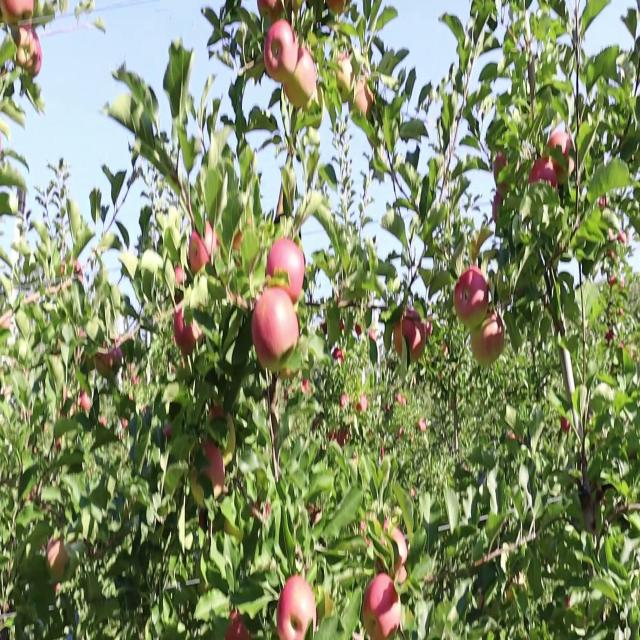apple: (252, 291, 300, 368), (276, 575, 320, 639), (268, 234, 307, 304), (368, 575, 403, 639), (284, 49, 318, 114), (456, 270, 492, 331), (264, 21, 297, 85), (188, 220, 222, 277), (476, 312, 506, 366), (396, 312, 426, 364), (380, 519, 408, 574), (200, 440, 227, 496), (16, 28, 44, 78), (188, 227, 216, 277), (368, 575, 399, 619), (492, 149, 511, 220), (548, 135, 575, 183), (528, 156, 559, 194), (352, 78, 376, 126), (384, 526, 408, 574), (360, 511, 390, 549), (176, 305, 198, 356), (360, 519, 396, 549), (336, 56, 356, 107), (364, 590, 384, 639), (304, 92, 326, 133), (16, 28, 36, 69), (48, 540, 69, 578), (316, 590, 335, 628), (28, 35, 44, 78), (96, 341, 112, 379), (260, 0, 286, 23), (228, 611, 249, 639), (492, 191, 508, 224), (492, 156, 510, 185), (32, 35, 44, 78), (4, 1, 23, 28), (208, 405, 227, 427), (328, 0, 347, 18), (112, 341, 124, 368), (328, 0, 347, 16), (80, 391, 92, 412), (24, 0, 36, 20), (0, 312, 12, 331), (176, 270, 187, 288)
